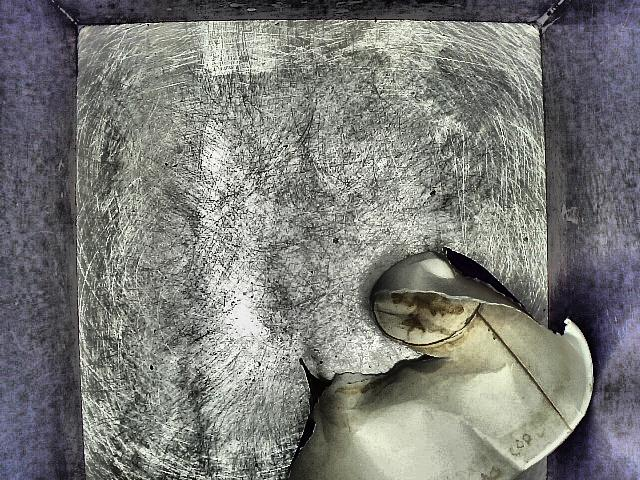Paper: (265, 238, 614, 480)
